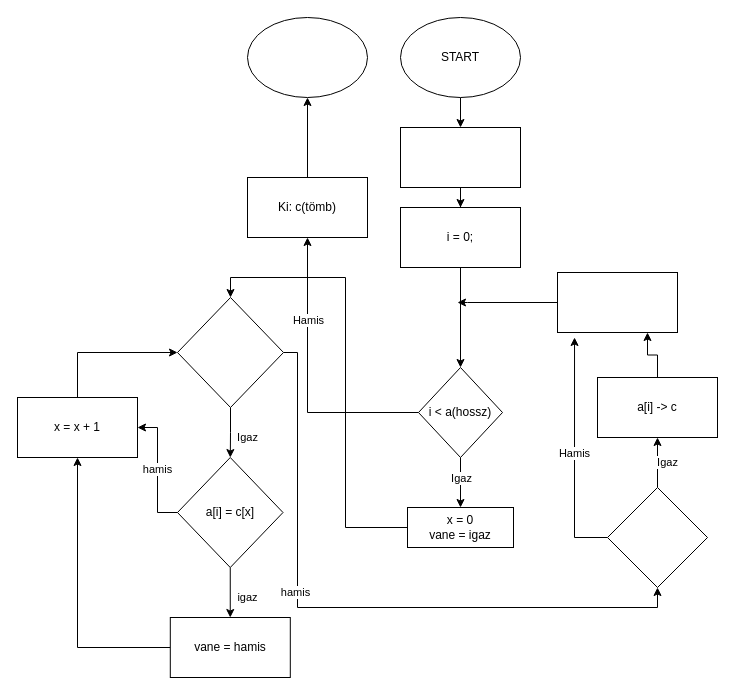
Some shapes in this 735 by 695 pixel diagram are drawn without their labels. The shapes that lost their labels are listed below. From the top down, each one's centre as x and y in pixels, then its label:
point 307,57: END
point 460,157: Be: a(tömb), c(tömb)
point 617,302: i = i + 1
point 230,352: x < c(hossz) és vane
point 657,537: vane
